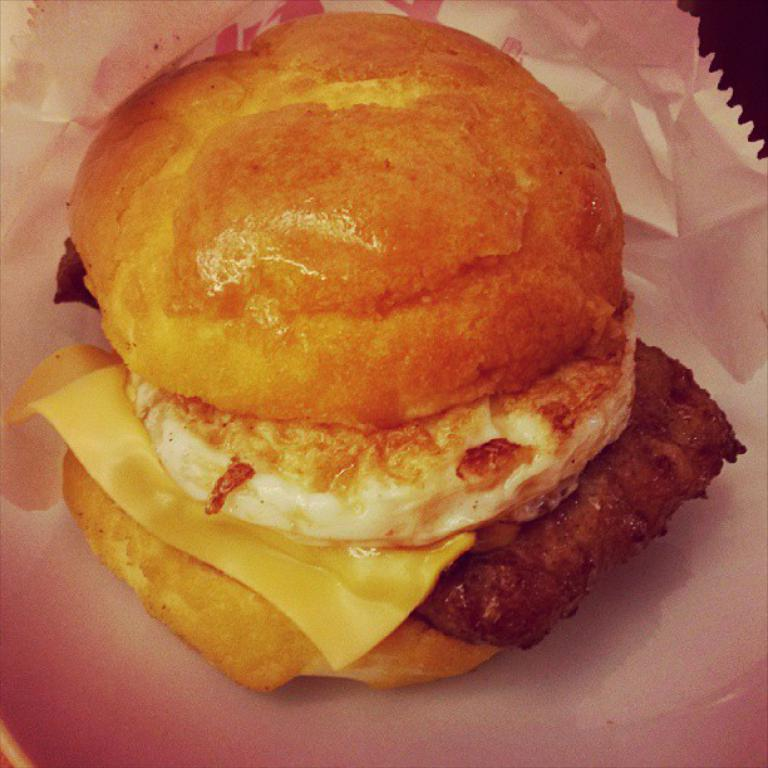Hamburger: (3, 8, 745, 693)
